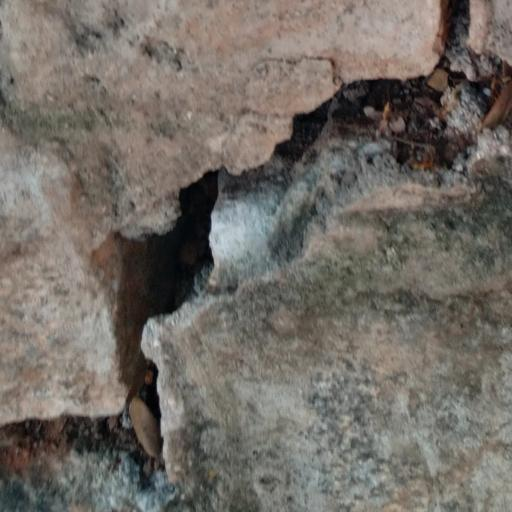major_crack: (5, 2, 512, 492)
